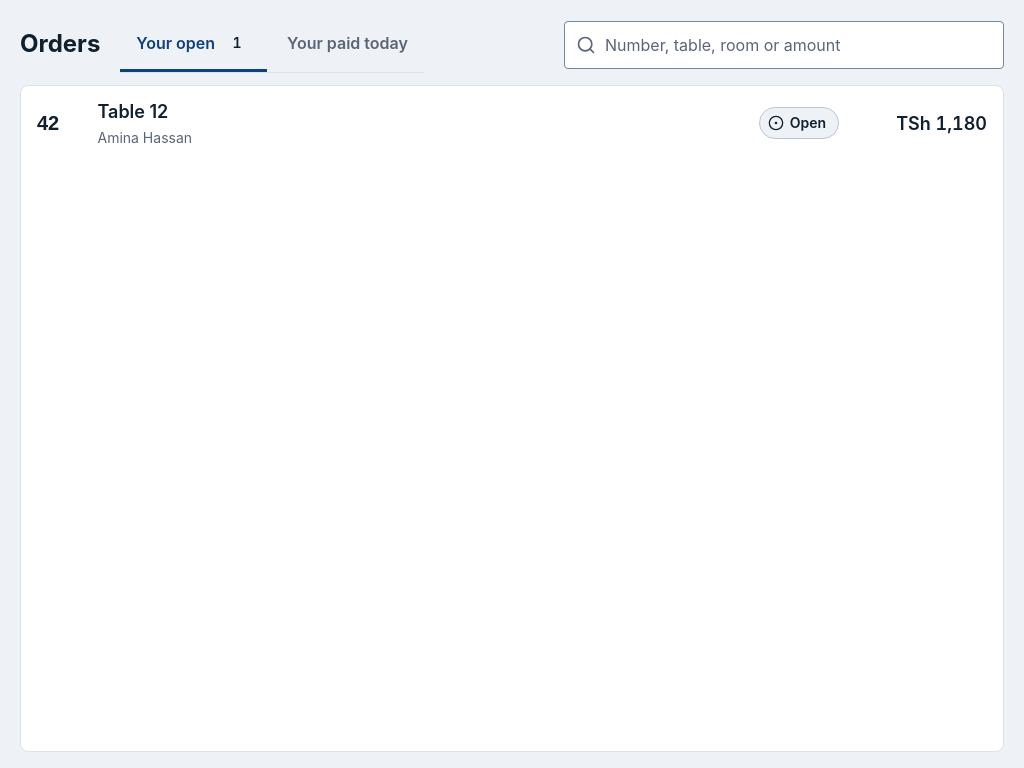
Test: Orders › shows Pay as closed, with who can, to a person without pos.payment.record; Send and Void stay
Click the button with test id "order-row-order-1" at (133, 112), box x1=21 y1=86 x2=1003 y2=160
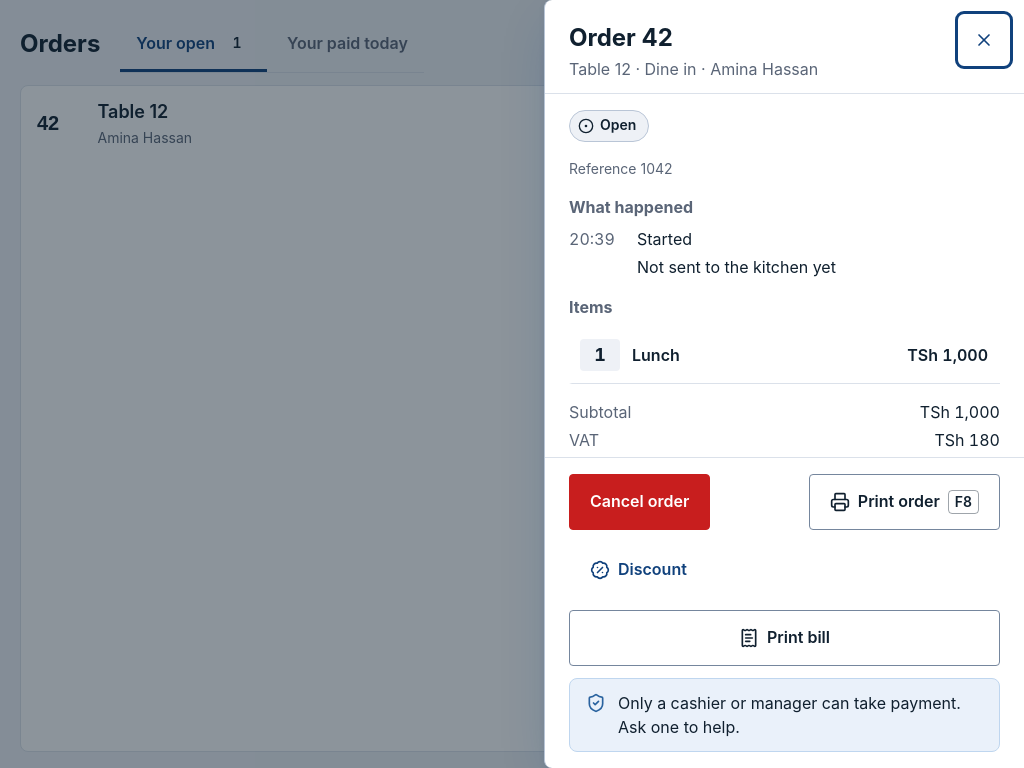
expect the element showing "Only a cashier or manager can take payment. Ask one to help." is shown: met, box x1=569 y1=678 x2=1000 y2=752
expect the button with test id "detail-send" is enabled: met, box x1=809 y1=474 x2=1000 y2=530
expect the button "Cancel order" is enabled: met, box x1=569 y1=474 x2=710 y2=530
